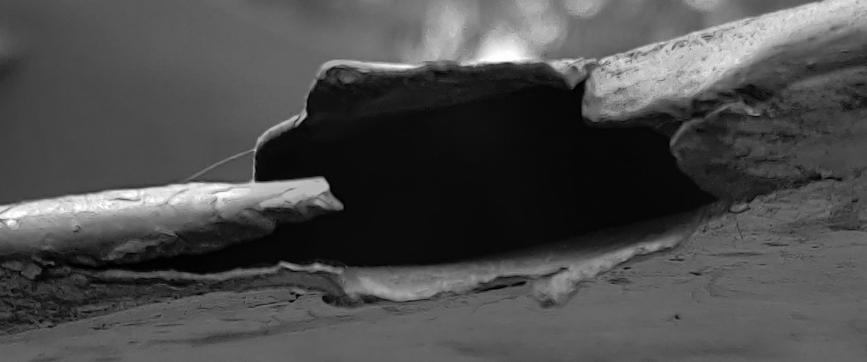crack: (1, 1, 867, 362)
